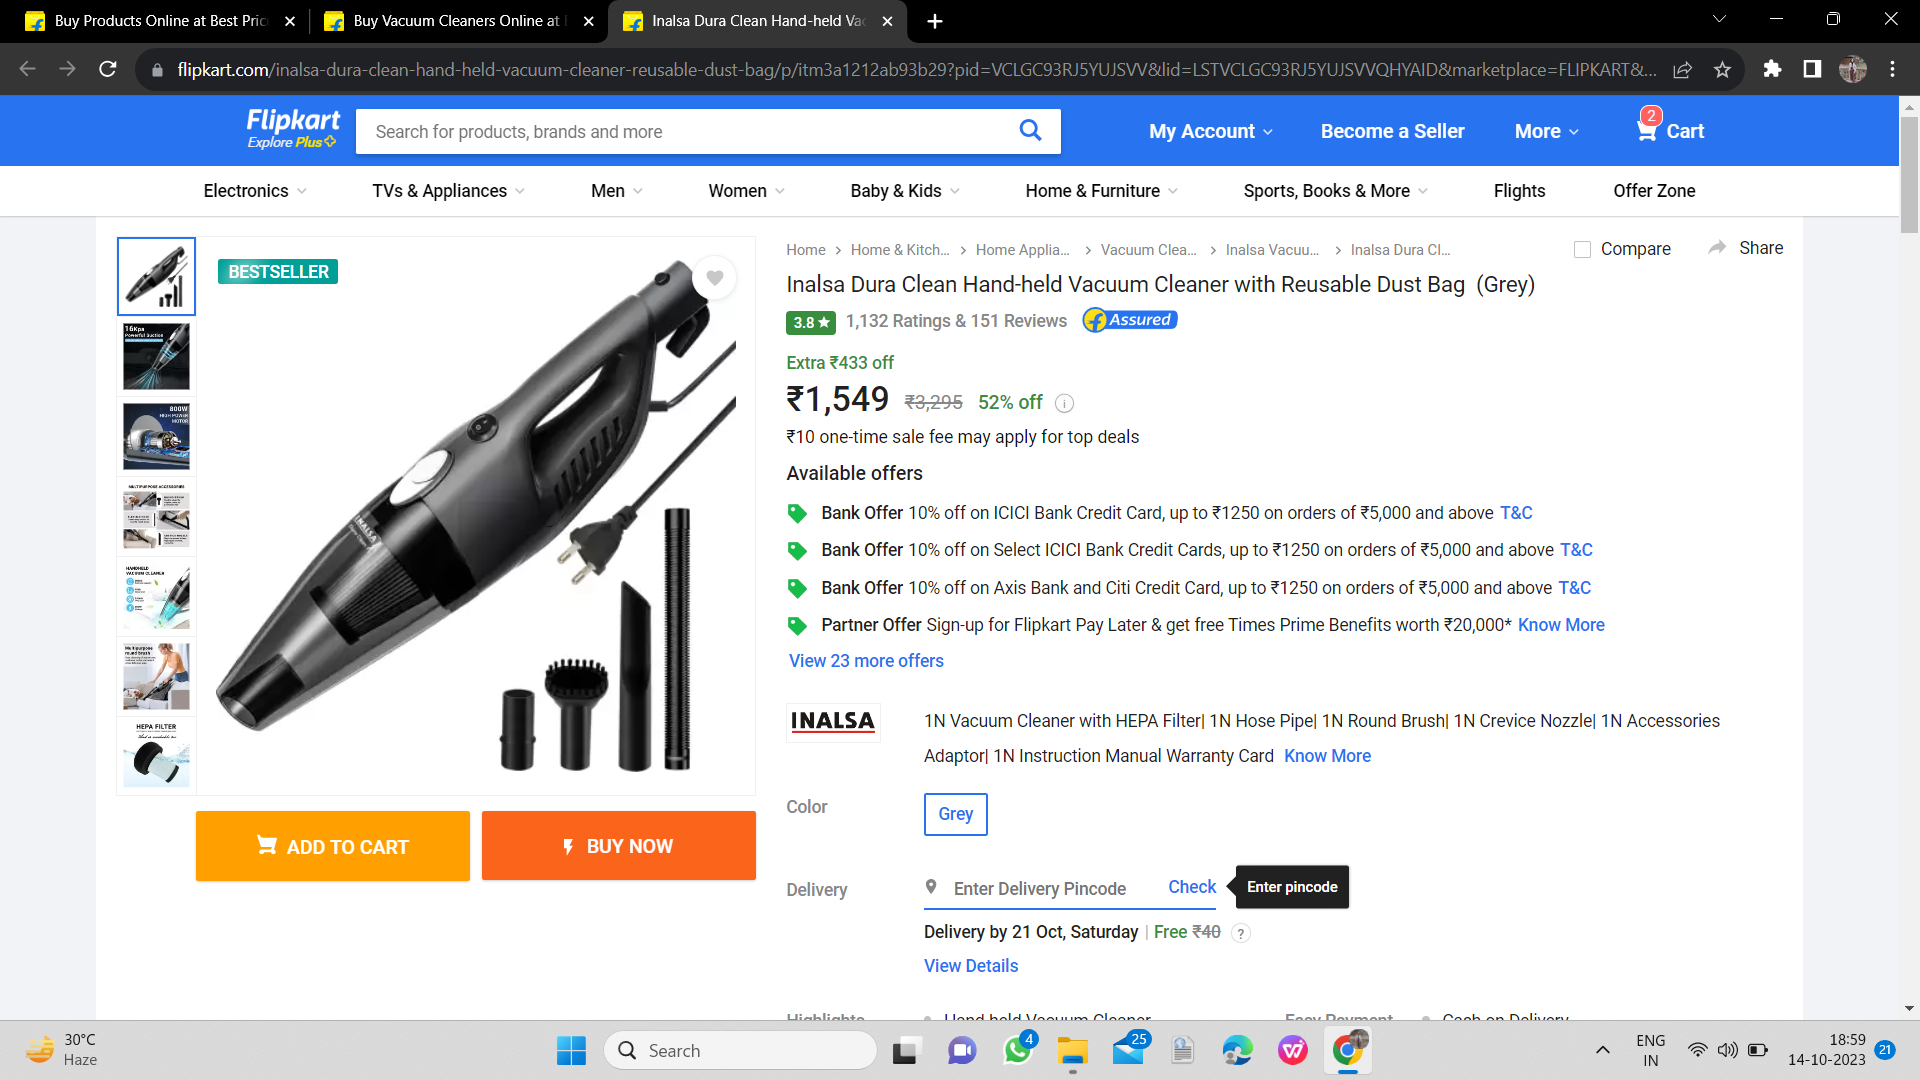Image: (210, 235, 746, 774)
Paragraph: (773, 489, 1621, 678), (770, 858, 1377, 980), (779, 703, 1733, 777), (187, 794, 761, 895), (770, 340, 1146, 454), (1117, 102, 1733, 153), (773, 264, 1543, 299), (770, 298, 1193, 336), (773, 790, 1007, 844), (774, 459, 932, 488)
